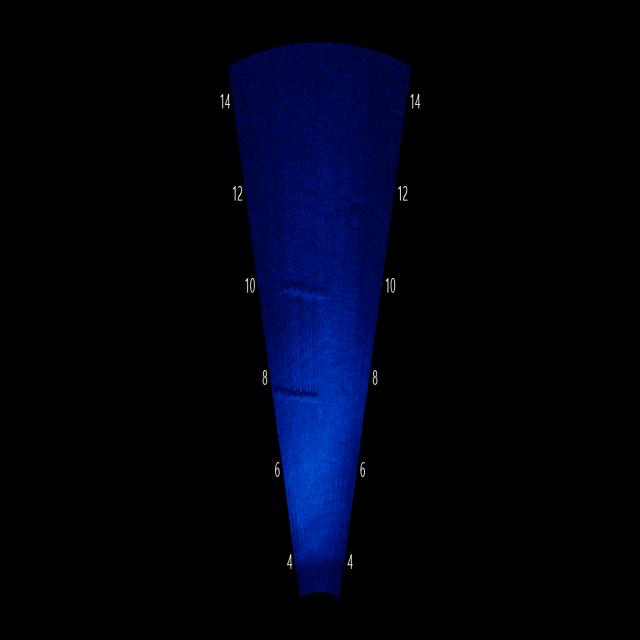square: (265, 274, 334, 416)
